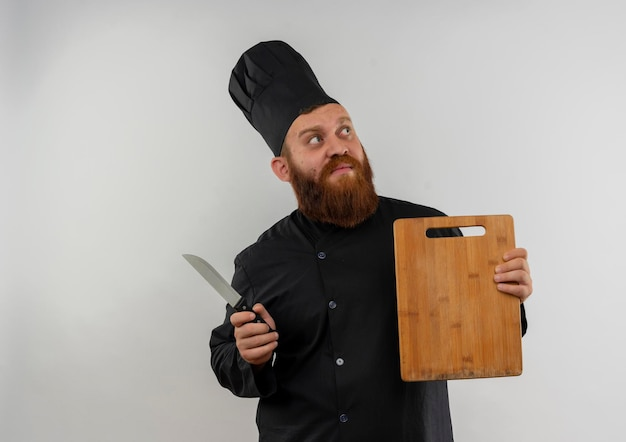knife: (181, 249, 274, 334)
